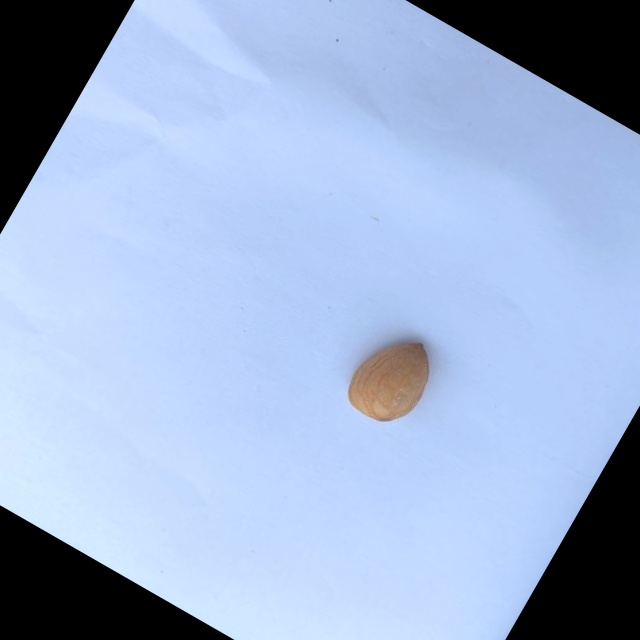grade2: (332, 316, 449, 439)
